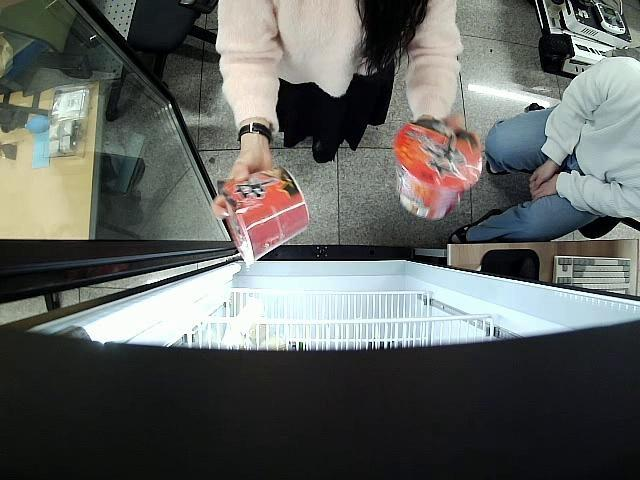01_ShinRamen_L: (216, 166, 312, 266), (392, 116, 482, 220)
